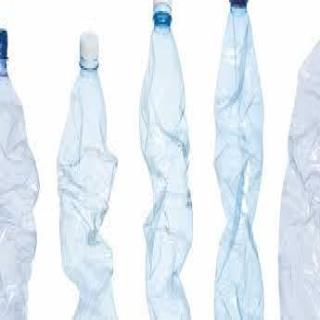Plastic-bottle: (136, 1, 196, 320), (56, 29, 120, 320), (212, 1, 267, 320), (277, 36, 320, 320), (1, 25, 41, 320)
